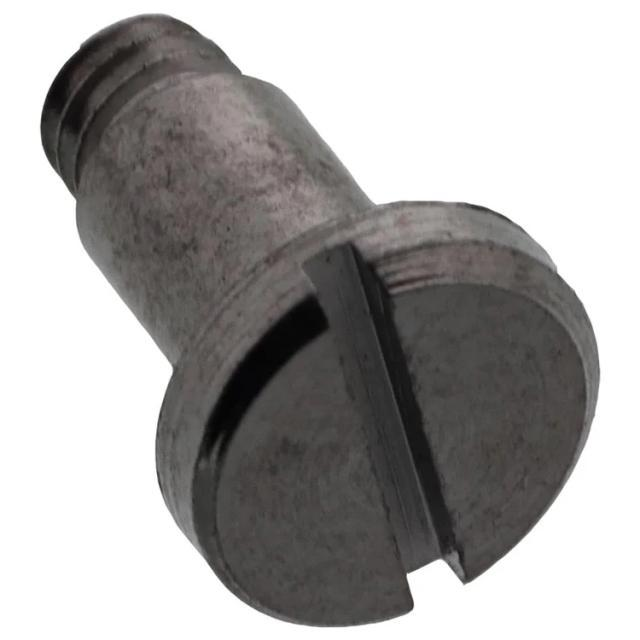duz: (151, 200, 602, 630)
